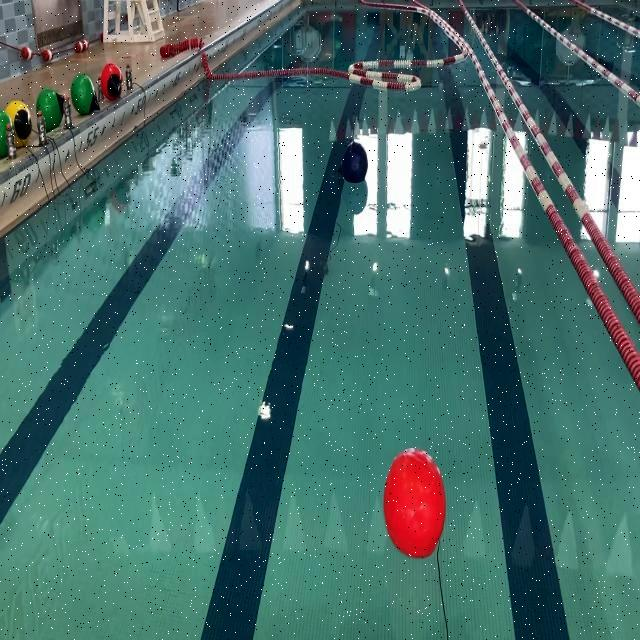buoy: (382, 442, 448, 557), (36, 88, 70, 130), (4, 100, 32, 148), (72, 71, 102, 115), (340, 140, 370, 183), (101, 62, 122, 100), (0, 107, 13, 159)
